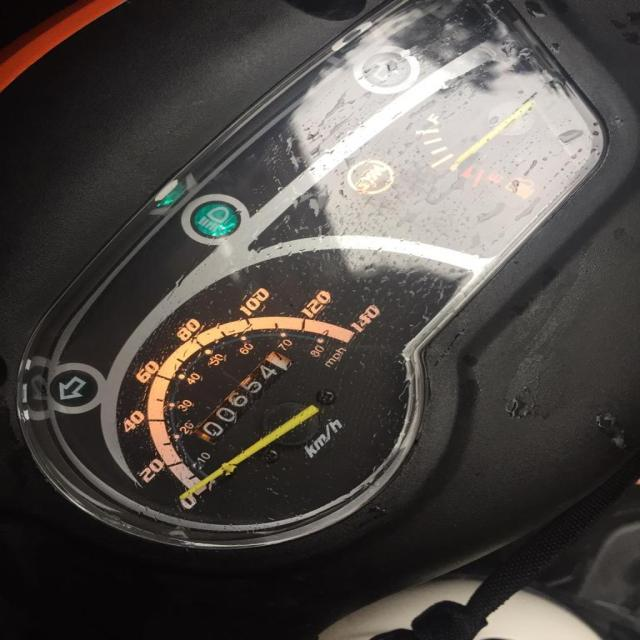odometer: (185, 347, 304, 441)
